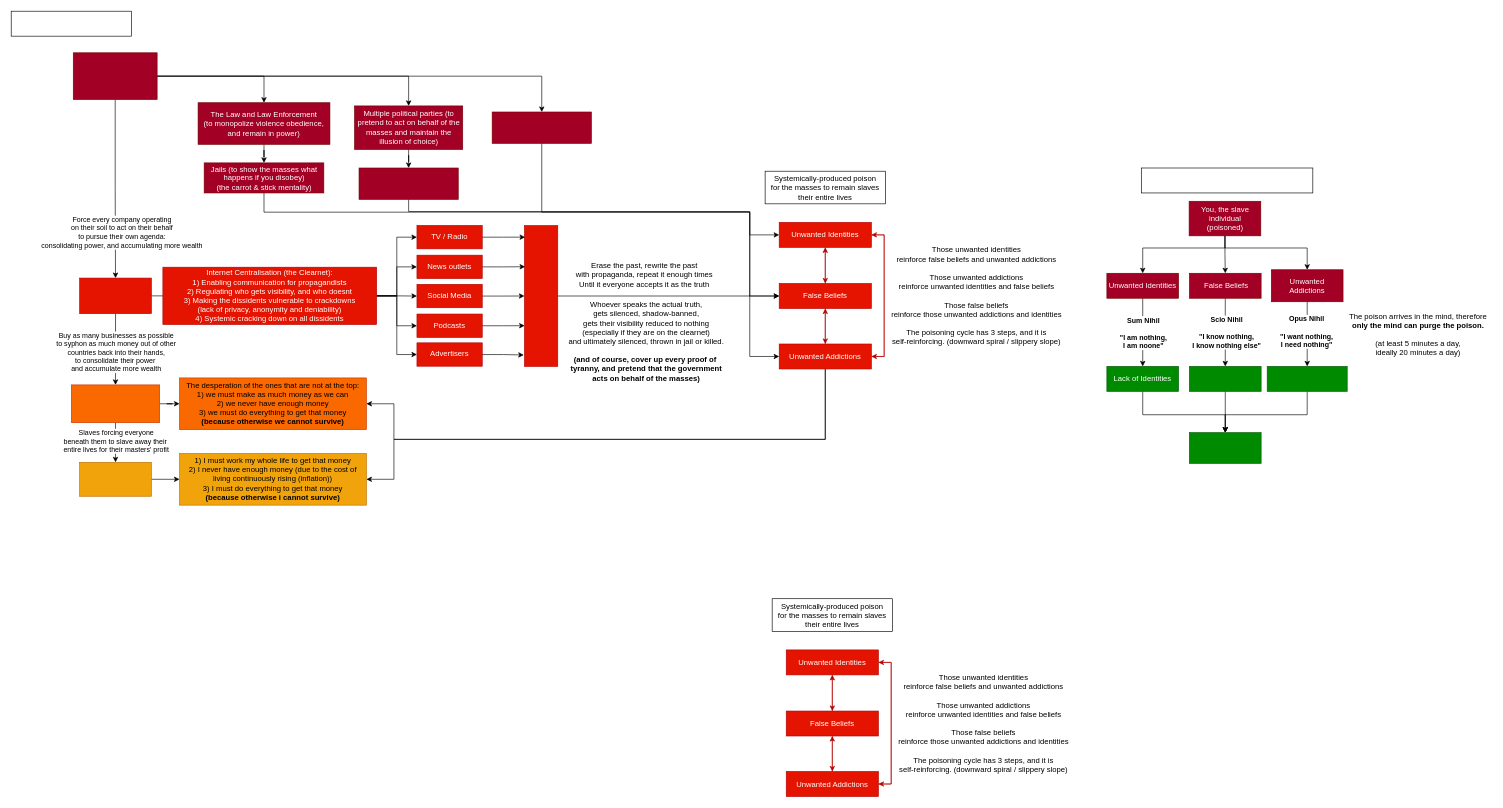
This 1503x808 diagram has some shape labels left out. Each missing label, with the box of its shape:
Corporations (hogs 90% of the profits): (79, 277, 151, 314)
Employees & Individuals: (79, 462, 151, 496)
Governments (Monopoly on violence, power, and corruption): (73, 52, 157, 100)
Lack of Addictions Lack of Compulsions: (1267, 366, 1347, 391)
Lack of Beliefs: (1189, 366, 1261, 391)
Medium-Small Businesses (gets the remaining 10% of the profits): (71, 384, 160, 423)
Nihilism is about getting rid of that poison: from Slavery to Freedom: (1141, 167, 1313, 193)
P R O P A G A N D A: (524, 225, 558, 366)
State-issued money (which they continuously print, causing inflation): (492, 111, 591, 143)
The Poison of Modern Times: (11, 11, 132, 36)
The Voting system (to falsely justify that the majority chose it): (358, 167, 458, 199)
You, the Free individual (free from poison): (1189, 432, 1261, 463)
